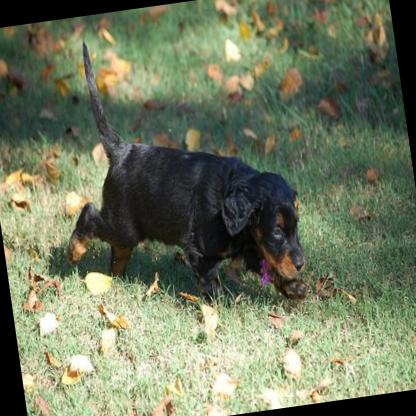Gordon_setter: (35, 10, 312, 328)
